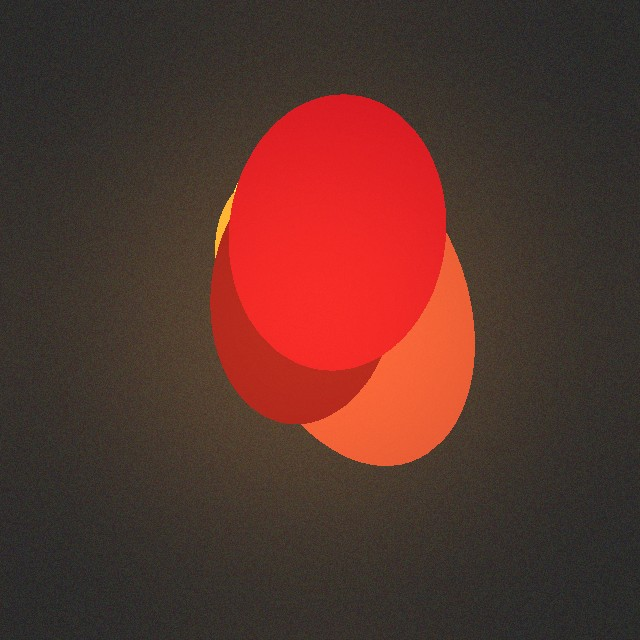fire: (174, 191, 454, 443)
